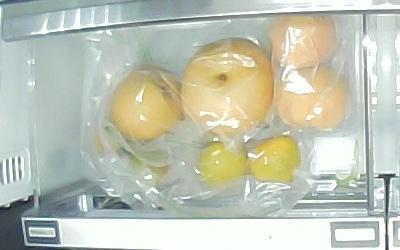peach_vinyl: (277, 65, 346, 130), (269, 12, 337, 69)
pear_vinyl: (181, 37, 273, 133), (108, 66, 183, 143)
tangerine_vinyl: (248, 135, 302, 184), (200, 142, 250, 183)
tomato_vinyl: (133, 149, 169, 179)
